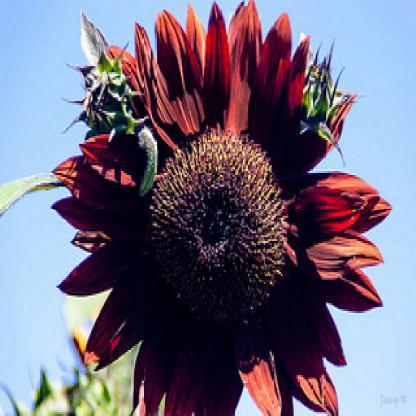SUN FLOWER: (80, 17, 396, 384)
